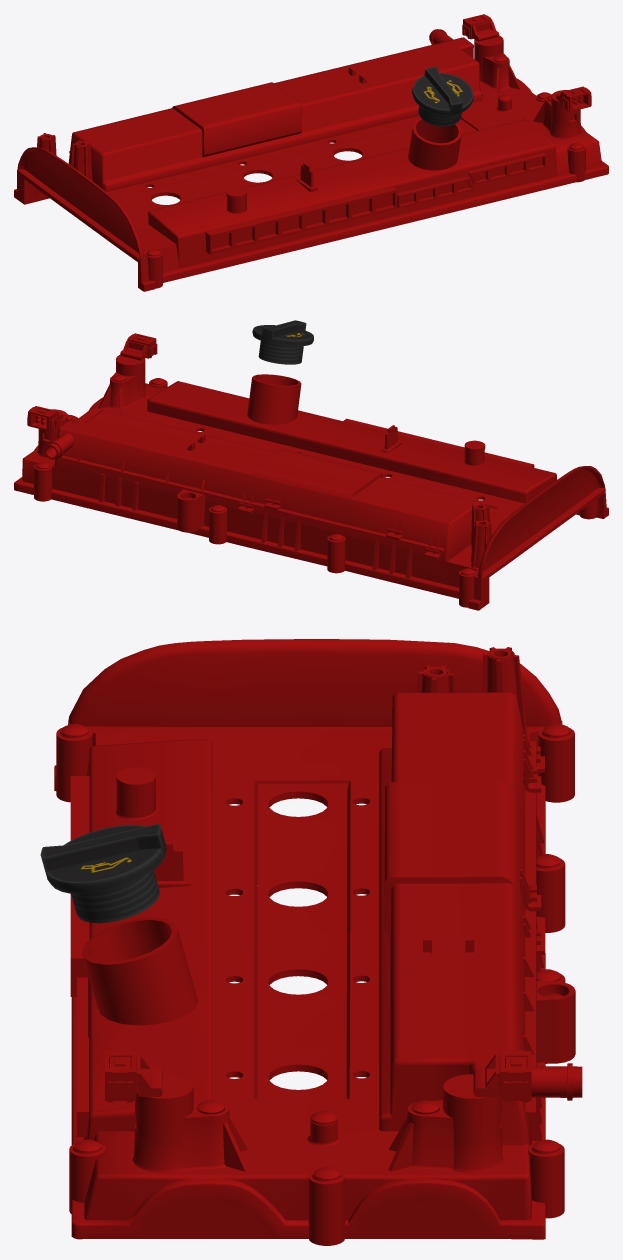
The model's file is headerCover.glb.
3 views of the same model, one above another, from view 1: azimuth 30°, elevation 25°; view 2: azimuth 150°, elevation 25°; view 3: azimuth 270°, elevation 25° (orthographic). The views are drawn at different scales.
Visible parts, largest first — view 1: r4_pokrywa_glowicy(0), korekOleju_1(0); view 2: r4_pokrywa_glowicy(0), korekOleju_1(0); view 3: r4_pokrywa_glowicy(0), korekOleju_1(0).
Part boxes in pixels (x1,y1,x2,y2): r4_pokrywa_glowicy(0): (14,14,608,291); korekOleju_1(0): (412,66,473,126); r4_pokrywa_glowicy(0): (14,333,608,610); korekOleju_1(0): (252,320,313,364); r4_pokrywa_glowicy(0): (54,639,582,1245); korekOleju_1(0): (40,823,166,923).
Bounding box in the file's own units: 0.011 × 0.00284 × 0.00542.
Materials: 2 (1 with a texture image).
